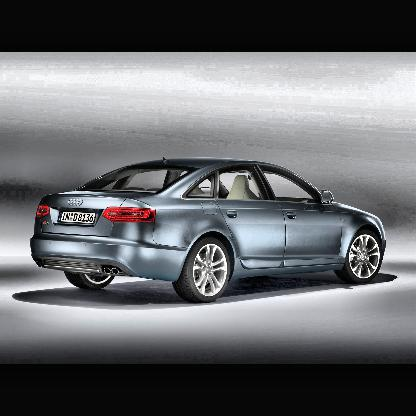Audi S6 Sedan 2011: (30, 155, 385, 303)
